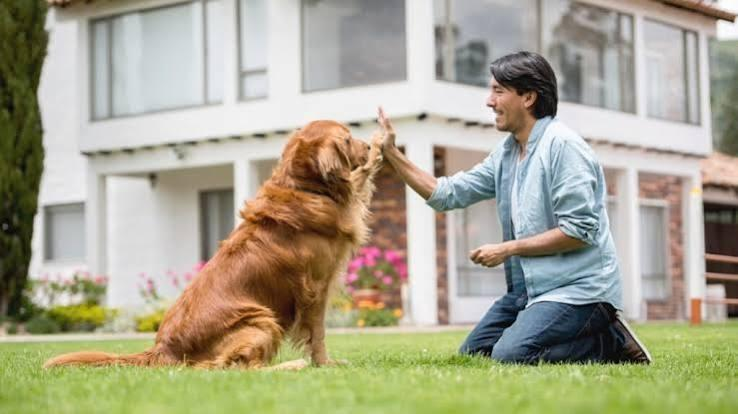adult_dog: (37, 117, 394, 374)
non-dog: (375, 50, 656, 370)
